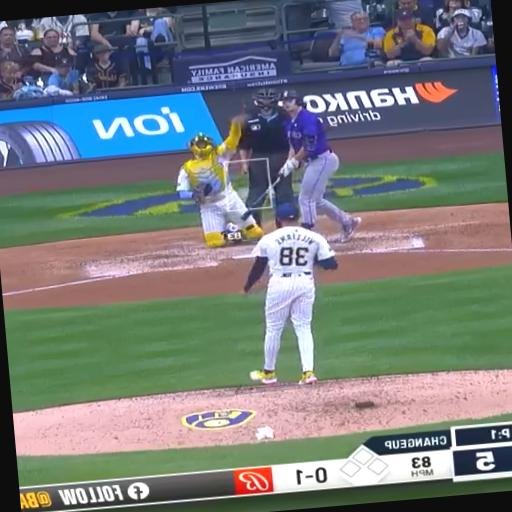bat: (251, 176, 281, 206)
